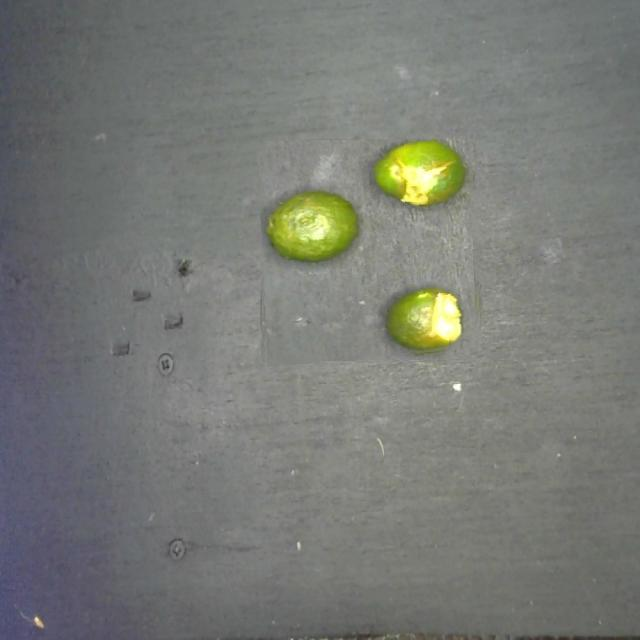biodegradable: (260, 139, 483, 363)
